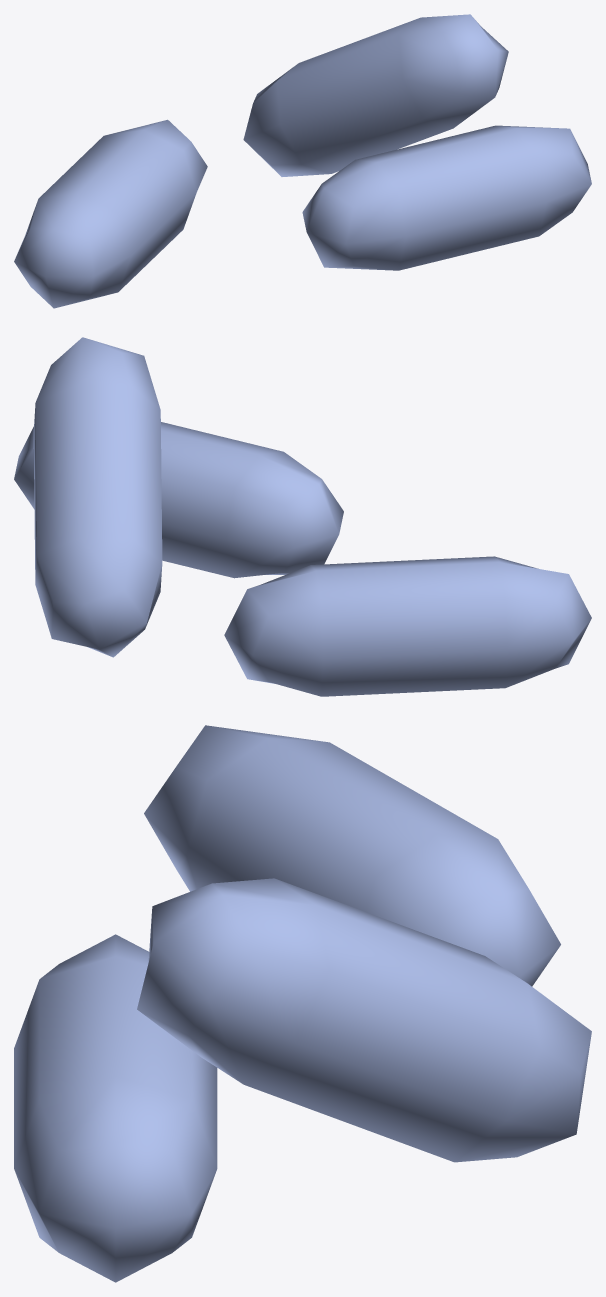
File: Eden_pill.fbx
3 renders of one model, top to bottom at view 1: azimuth 30°, elevation 25°; view 2: azimuth 150°, elevation 25°; view 3: azimuth 270°, elevation 25°, orthographic. The views are drawn at different scales.
Visible parts, largest first — view 1: Eden_pill; view 2: Eden_pill; view 3: Eden_pill.
Part boxes in pixels (x1=…): Eden_pill: x1=14, y1=14, x2=591, y2=308; Eden_pill: x1=14, y1=337, x2=591, y2=696; Eden_pill: x1=14, y1=725, x2=591, y2=1282.
Bounding box in the file's own units: 0.00143 × 0.000518 × 0.000771.
